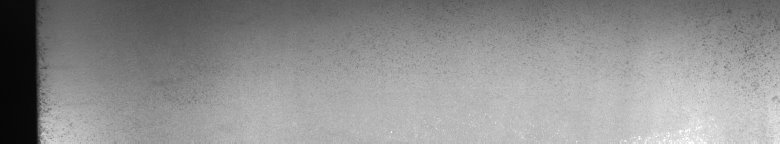ib: (696, 8, 776, 101)
